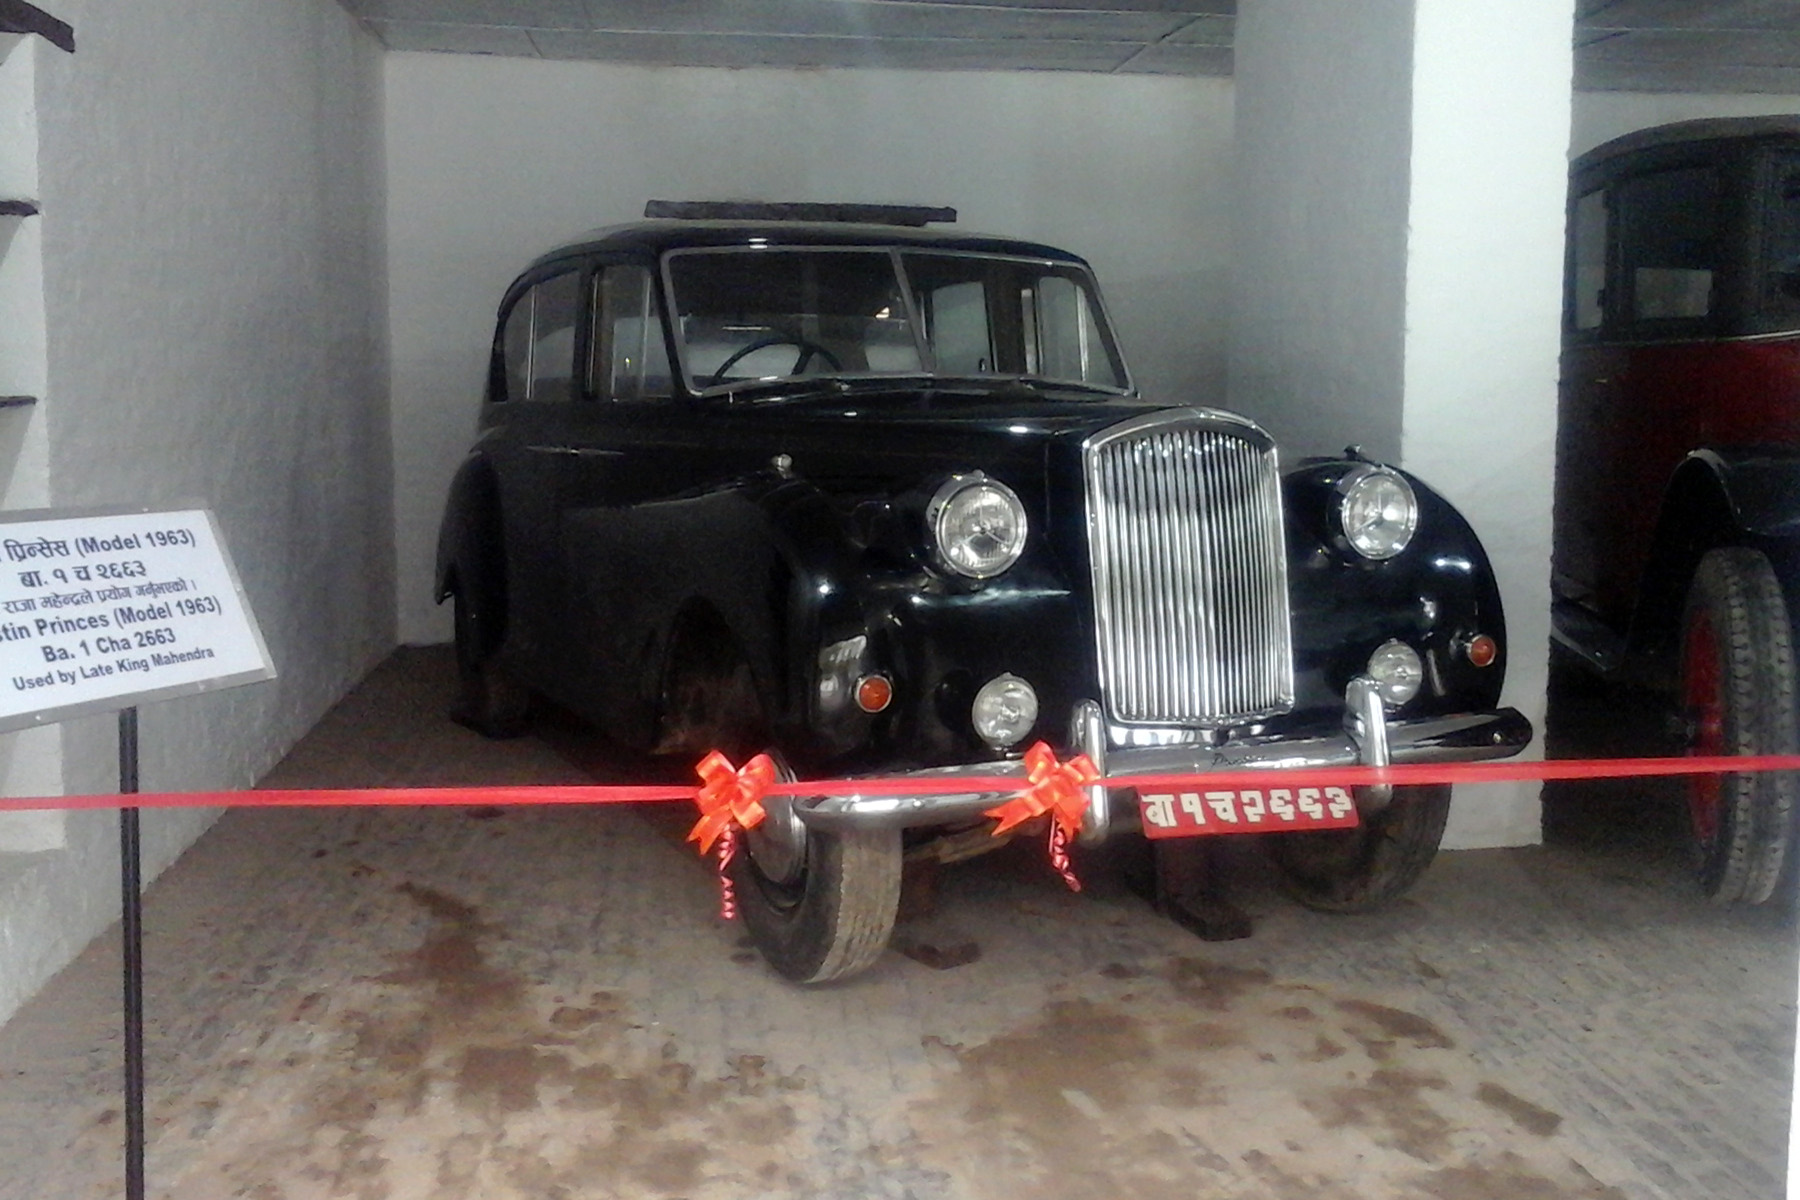number plate: (1133, 780, 1368, 838)
